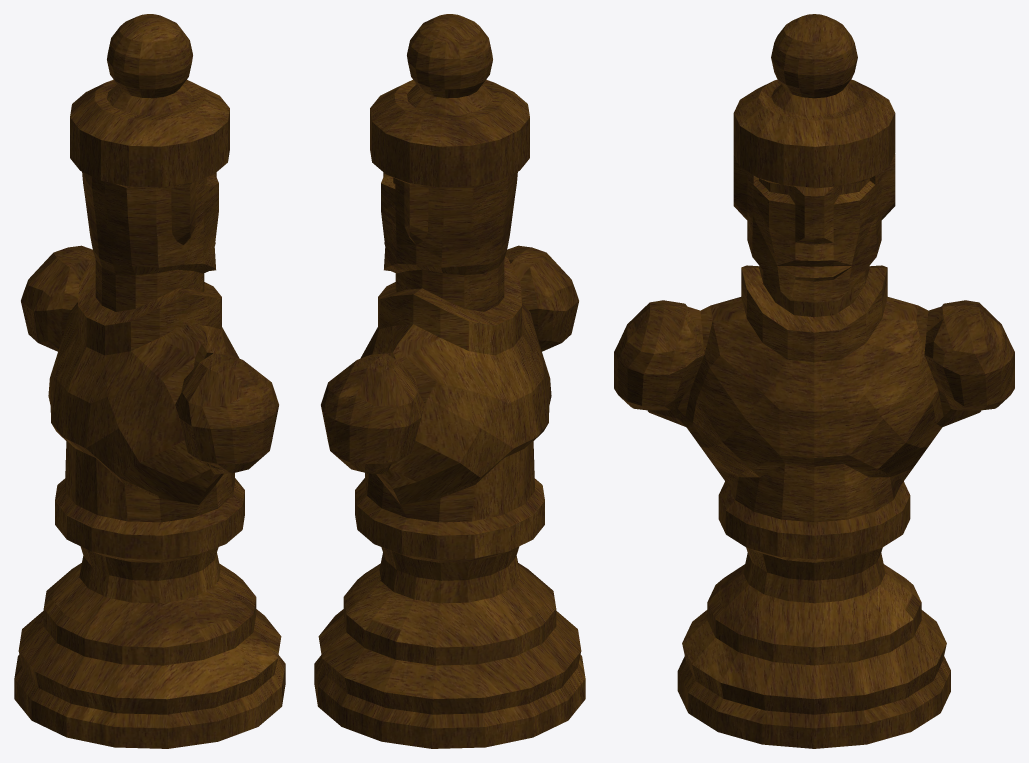
File: fun_pawn_black.glb
The picture shows the model from 3 angles, left to right: view 1: azimuth 30°, elevation 25°; view 2: azimuth 150°, elevation 25°; view 3: azimuth 270°, elevation 25°; orthographic projection.
Visible parts, largest first — view 1: Black Pawn_Black Pawn material_0; view 2: Black Pawn_Black Pawn material_0; view 3: Black Pawn_Black Pawn material_0.
Part boxes in pixels (x1=…): Black Pawn_Black Pawn material_0: x1=14, y1=14, x2=285, y2=748; Black Pawn_Black Pawn material_0: x1=314, y1=14, x2=585, y2=748; Black Pawn_Black Pawn material_0: x1=614, y1=14, x2=1014, y2=748.
Bounding box in the file's own units: 0.0369 × 0.1002 × 0.0541.
Materials: 1 (1 with a texture image).
